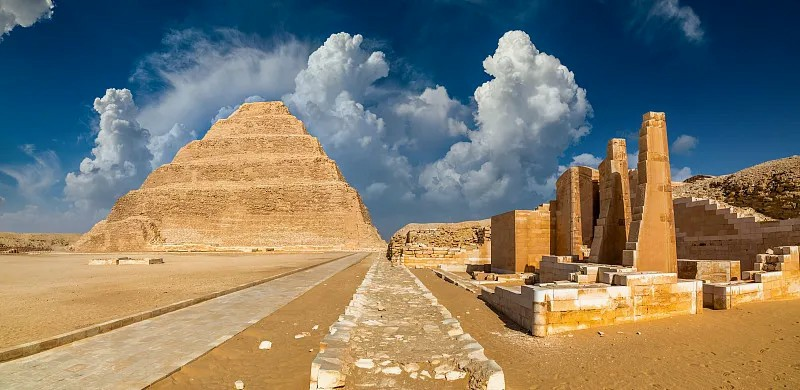Pyramid: (73, 100, 387, 250)
